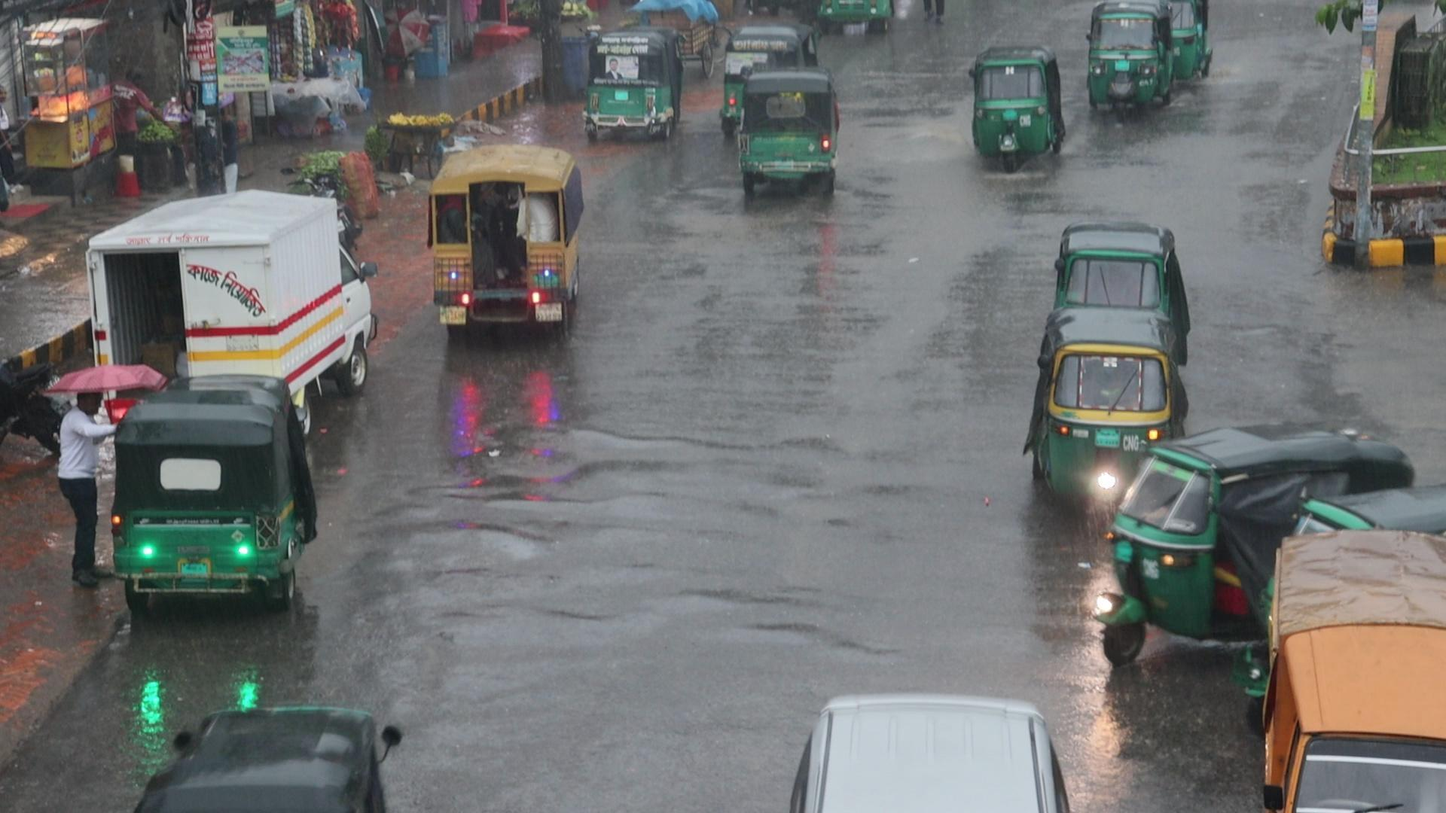Truck: (1256, 473, 1446, 813), (410, 153, 587, 379)
